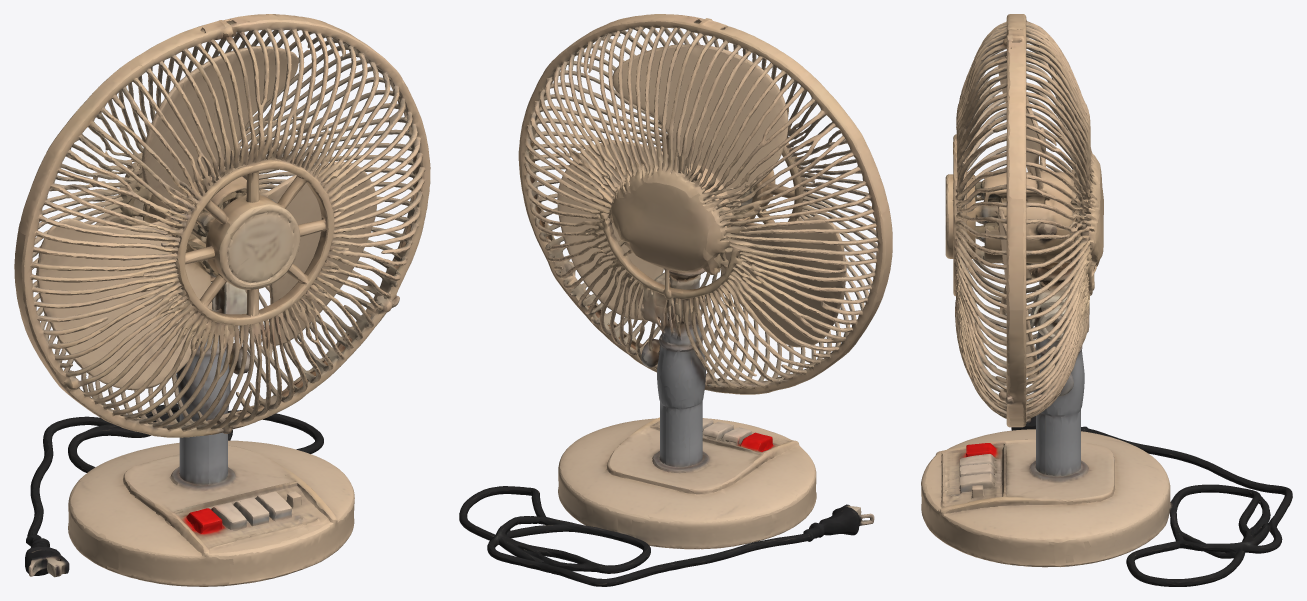
File: source.glb
3 renders of one model, left to right at view 1: azimuth 30°, elevation 25°; view 2: azimuth 150°, elevation 25°; view 3: azimuth 270°, elevation 25°, orthographic. The views are drawn at different scales.
Visible parts, largest first — view 1: world; view 2: world; view 3: world.
Part boxes in pixels (<box>): world: <box>14,14,430,586</box>; world: <box>459,14,892,586</box>; world: <box>921,14,1292,586</box>.
Bounding box in the file's own units: 0.3703 × 0.45 × 0.319.
1 material, 1 textured.
